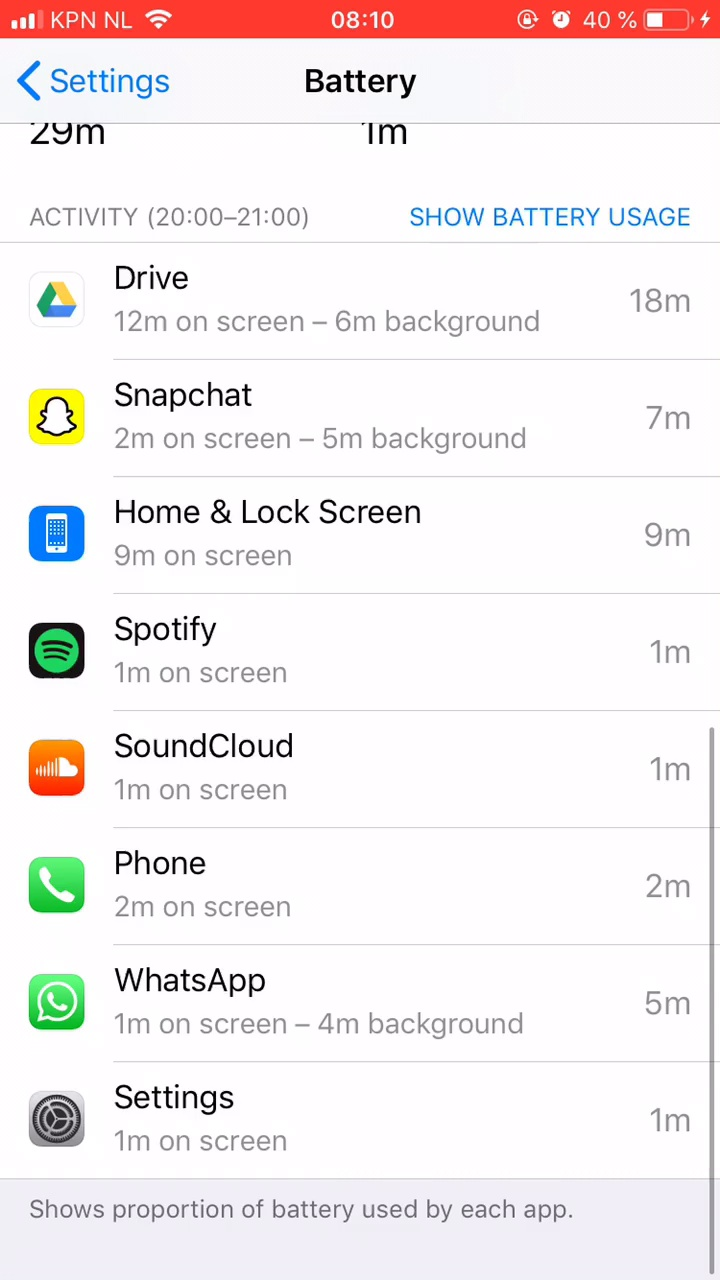activity: (24, 192, 328, 229)
app: (17, 255, 702, 345), (25, 370, 710, 460), (21, 479, 706, 569), (24, 602, 709, 692), (17, 720, 702, 810), (18, 839, 703, 929), (23, 958, 708, 1048), (18, 1074, 703, 1164)
